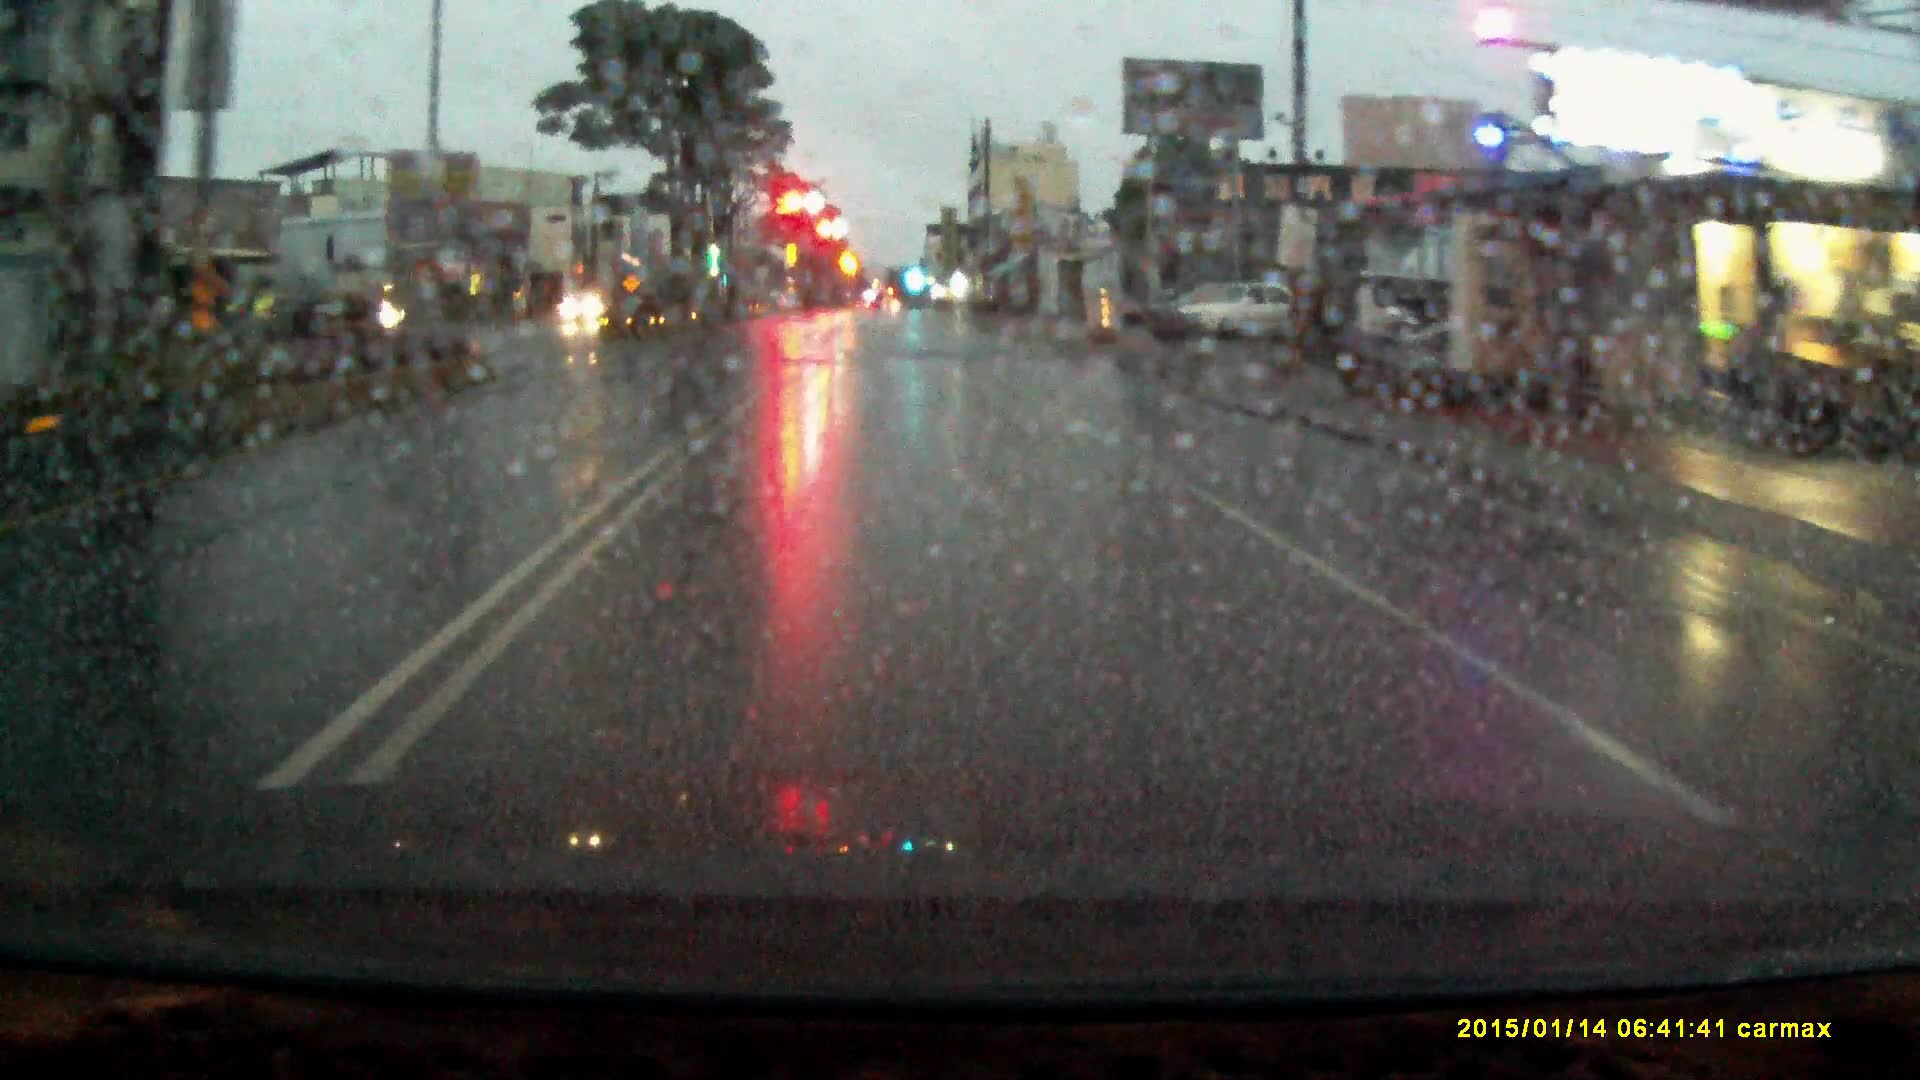vehicle: (1176, 284, 1316, 348), (560, 295, 612, 331)
